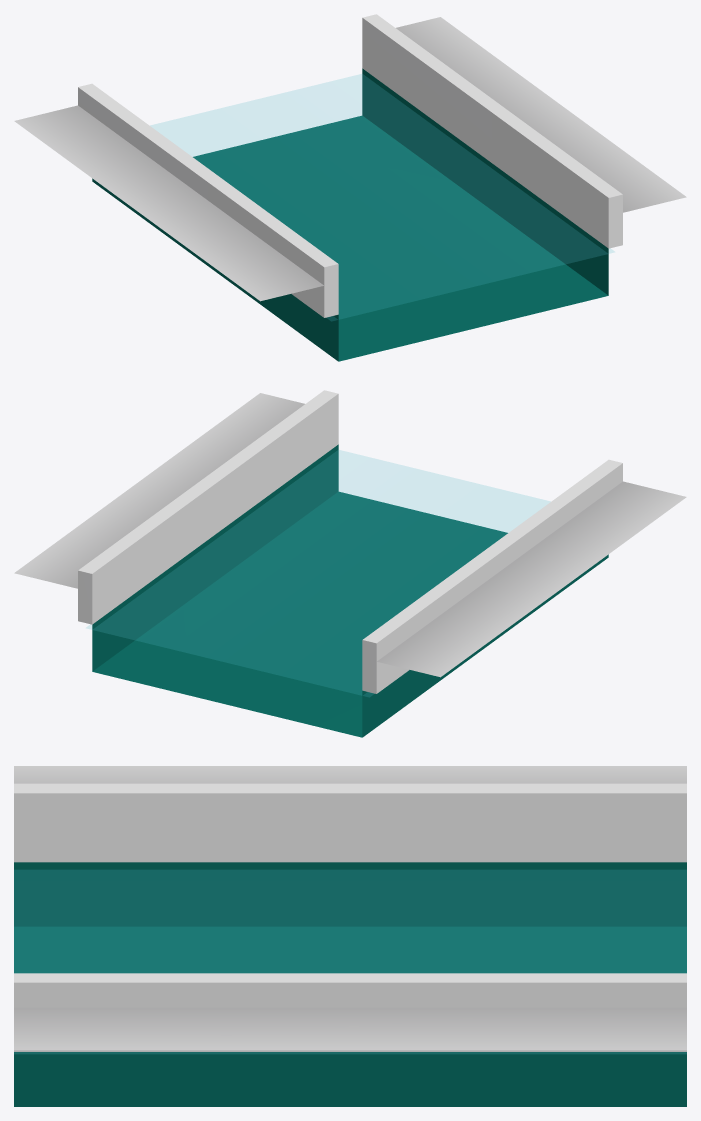
Rendered from Water_06.glb.
The picture shows the model from 3 angles, top to bottom: view 1: azimuth 30°, elevation 25°; view 2: azimuth 150°, elevation 25°; view 3: azimuth 270°, elevation 25°; orthographic projection. The views are drawn at different scales.
Visible parts, largest first — view 1: Water_06; view 2: Water_06; view 3: Water_06.
Part boxes in pixels (box(x1,y1,x2,y2)): Water_06: box(14, 14, 686, 361); Water_06: box(14, 390, 686, 737); Water_06: box(14, 766, 686, 1106).
Bounding box in the file's own units: 15 × 3.29 × 15.
Materials: 2 (2 with a texture image).
